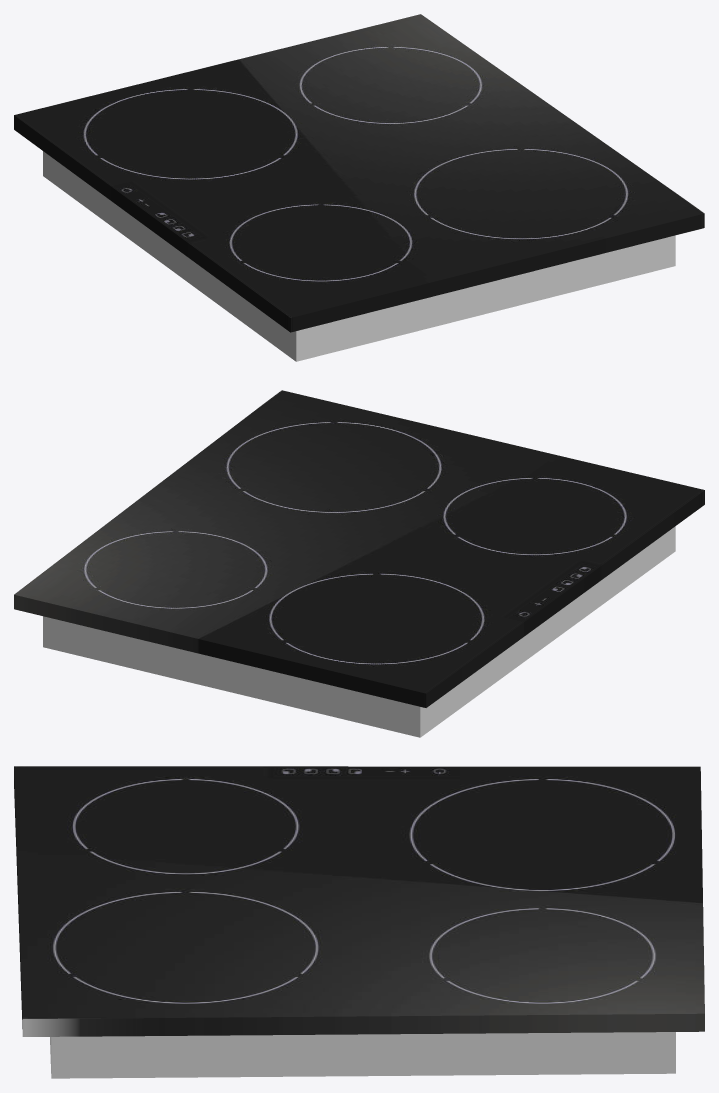
Rendered from beptu1 (1).fbx.
The picture shows the model from 3 angles, top to bottom: view 1: azimuth 30°, elevation 25°; view 2: azimuth 150°, elevation 25°; view 3: azimuth 270°, elevation 25°; orthographic projection. The views are drawn at different scales.
Visible parts, largest first — view 1: beptu; view 2: beptu; view 3: beptu.
Part boxes in pixels (x1,y1,x2,y2): beptu: (14, 14, 704, 361); beptu: (14, 390, 704, 737); beptu: (14, 766, 704, 1078).
Size of the model in its own units: 79.62 by 10.34 by 91.97.
2 materials, 1 textured.
